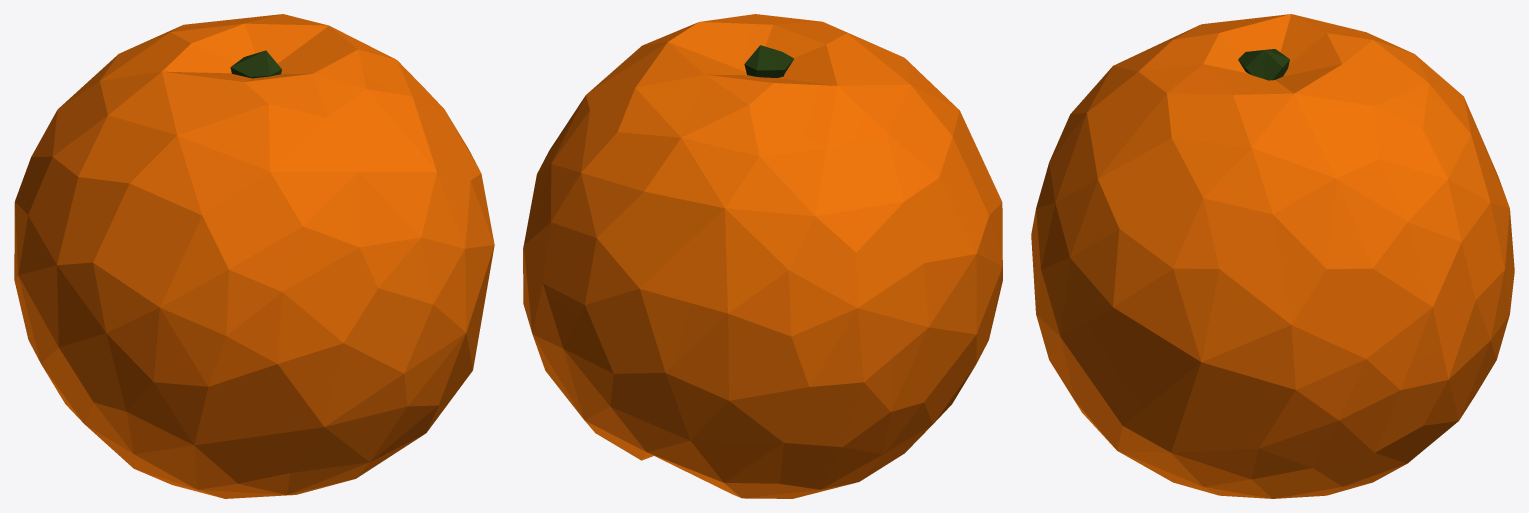
File: Mandarine.fbx
The picture shows the model from 3 angles, left to right: view 1: azimuth 30°, elevation 25°; view 2: azimuth 150°, elevation 25°; view 3: azimuth 270°, elevation 25°; orthographic projection.
Visible parts, largest first — view 1: Cube.026; view 2: Cube.026; view 3: Cube.026.
Boxes of the visible parts, x1,y1,x2,y2 form: Cube.026: [14, 14, 494, 498]; Cube.026: [523, 14, 1002, 498]; Cube.026: [1031, 14, 1514, 498].
Size of the model in its own units: 24.42 by 23.98 by 24.36.
